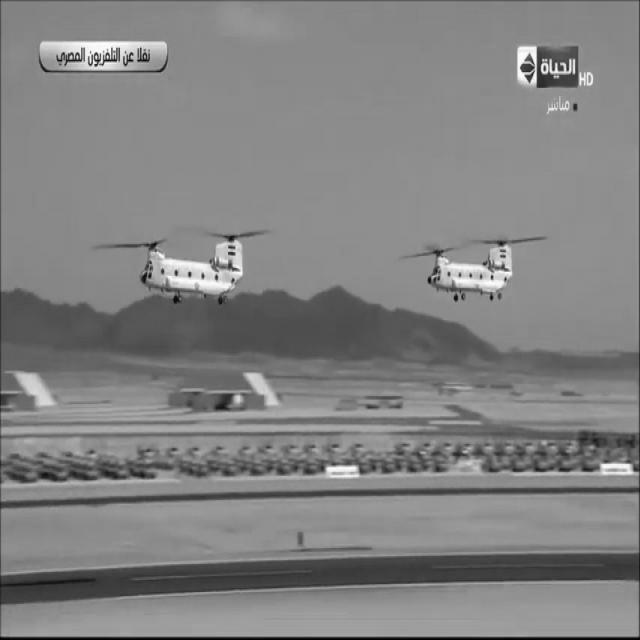helikopter: (112, 202, 290, 350), (397, 222, 547, 346)
